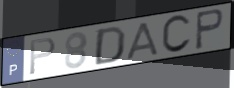8: (62, 30, 90, 71)
A: (125, 20, 161, 61)
C: (160, 13, 193, 55)
D: (92, 25, 128, 67)
P: (194, 7, 226, 52), (28, 36, 58, 77)
